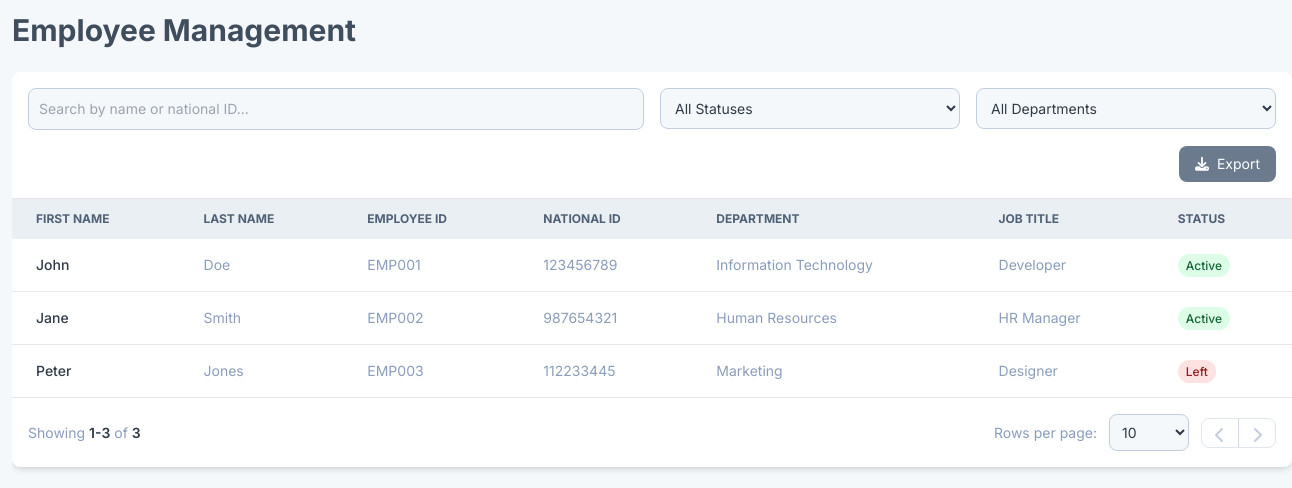
Test case: EmployeesPage › filters employees by status
Expected: the column heading "John" is shown, left=12, top=239, right=180, bottom=292
Select "Left" in the dropdown named "status" at (810,108), box left=660, top=88, right=960, bottom=129
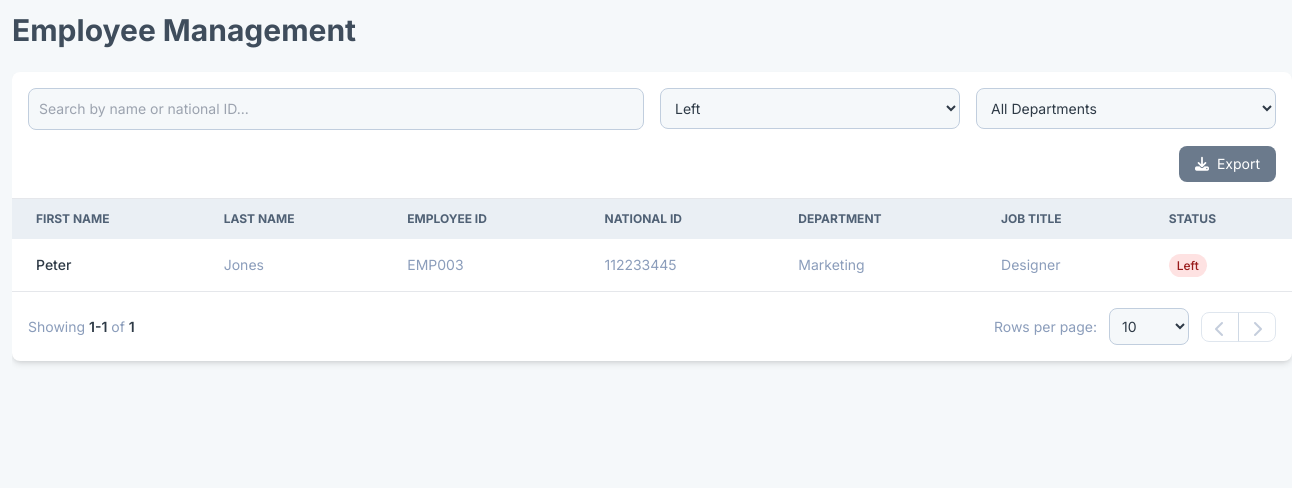
Expected: the column heading "Peter" is shown, left=12, top=239, right=200, bottom=292
Expected: the column heading "John" is gone
Expected: the column heading "Jane" is gone
